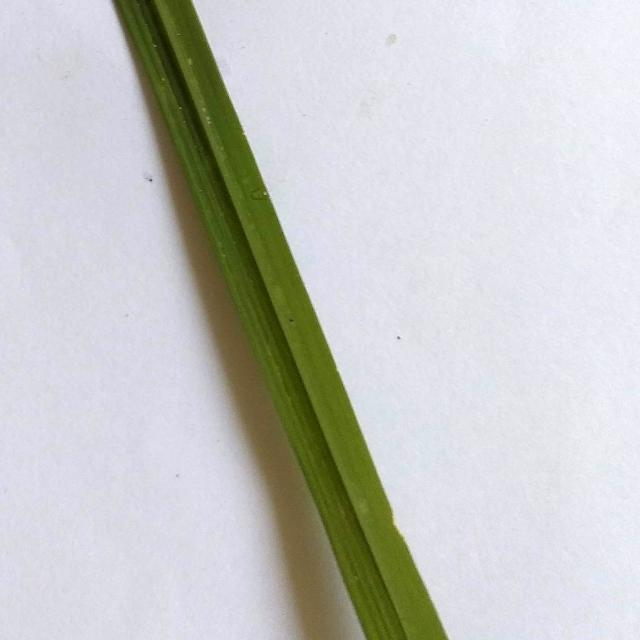Rice_Healthy: (114, 0, 448, 640)
